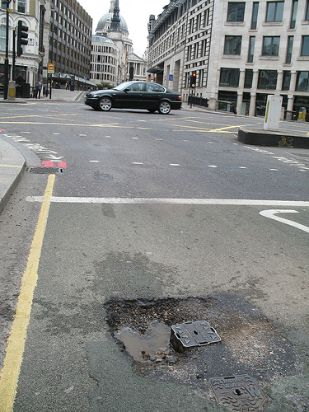pothole: (99, 291, 298, 378)
